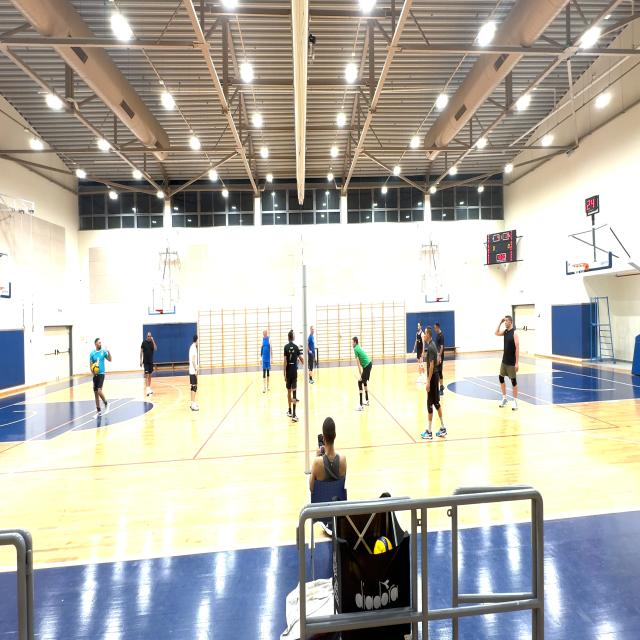volleyball: (373, 536, 393, 555), (91, 362, 99, 374)
